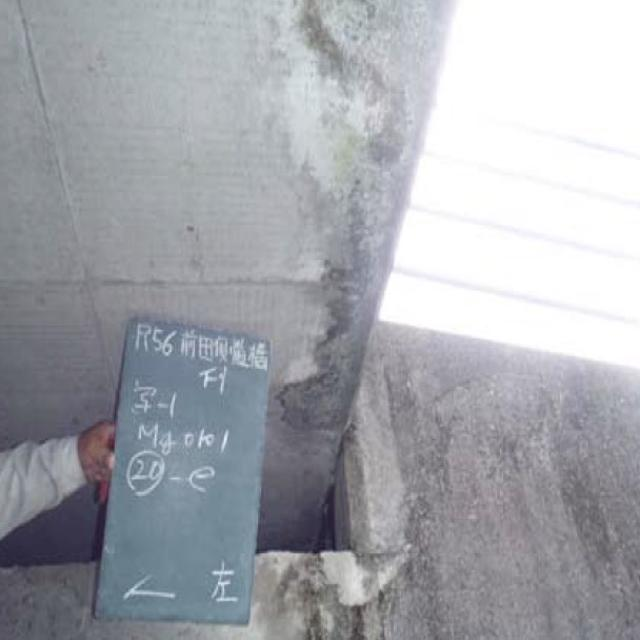leakage: (283, 44, 376, 443)
